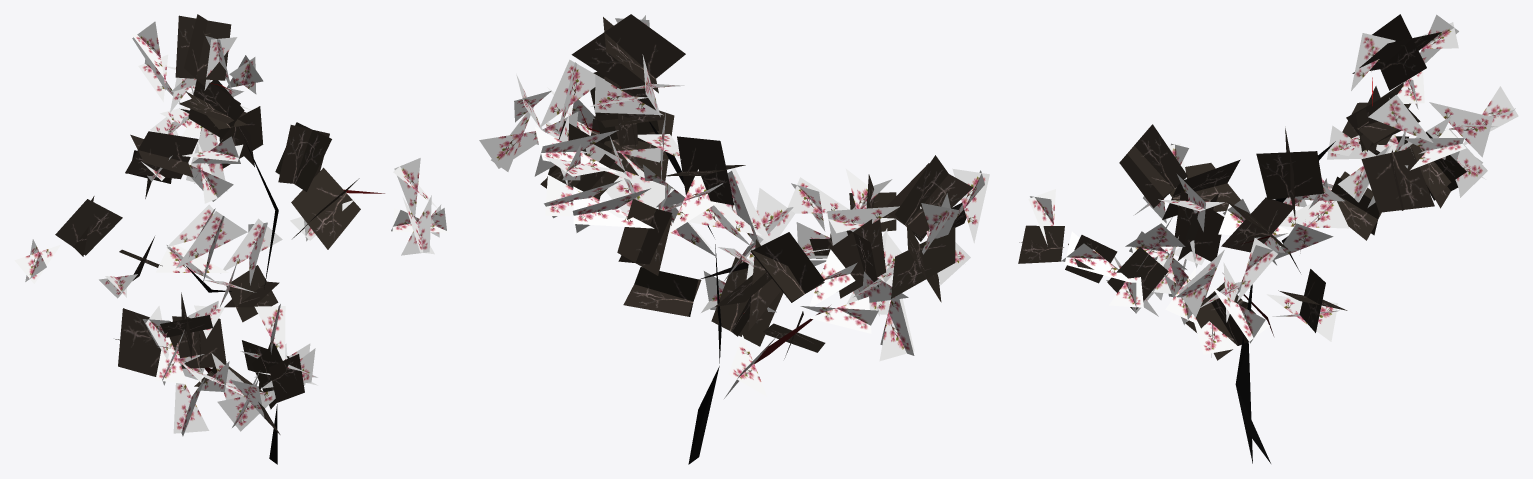
Rendered from sakura3 lod3.FBX.
The picture shows the model from 3 angles, left to right: view 1: azimuth 30°, elevation 25°; view 2: azimuth 150°, elevation 25°; view 3: azimuth 270°, elevation 25°; orthographic projection. The views are drawn at different scales.
Visible parts, largest first — view 1: sakura3_LOD3; view 2: sakura3_LOD3; view 3: sakura3_LOD3.
Boxes of the visible parts, x1,y1,x2,y2 form: sakura3_LOD3: (14, 14, 449, 464); sakura3_LOD3: (479, 14, 989, 464); sakura3_LOD3: (1018, 14, 1518, 463).
Bounding box in the file's own units: 105876 × 109991 × 112410.
